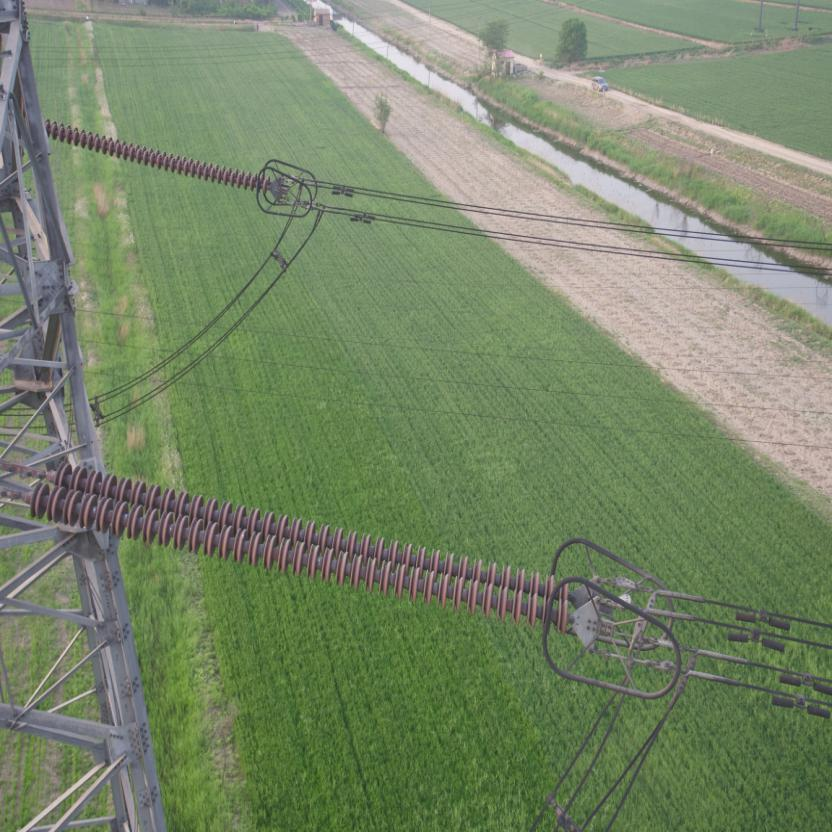insulator: (5, 449, 580, 638), (42, 112, 274, 196)
